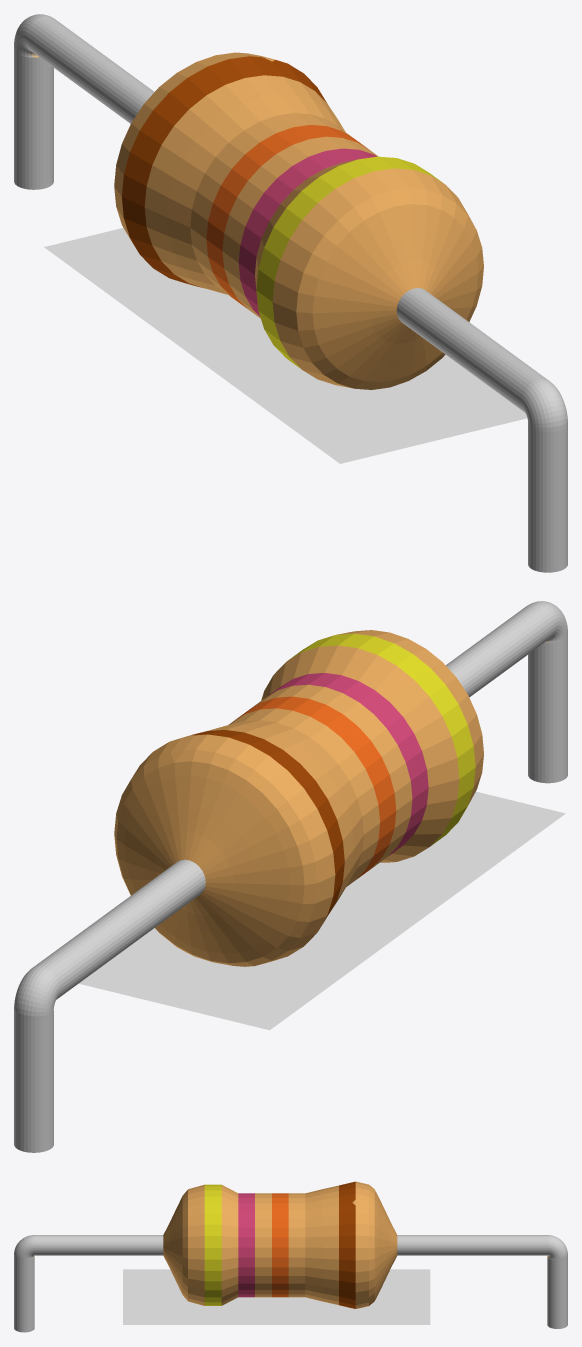
Rendered from R5_tan_7.gltf.
The picture shows the model from 3 angles, top to bottom: view 1: azimuth 30°, elevation 25°; view 2: azimuth 150°, elevation 25°; view 3: azimuth 270°, elevation 25°; orthographic projection. The views are drawn at different scales.
Visible parts, largest first — view 1: R5_tan_7, R5_tan_7_plane; view 2: R5_tan_7, R5_tan_7_plane; view 3: R5_tan_7, R5_tan_7_plane.
Boxes of the visible parts, x1=… form: R5_tan_7: x1=14, y1=14, x2=567, y2=572; R5_tan_7_plane: x1=44, y1=227, x2=527, y2=463; R5_tan_7: x1=14, y1=601, x2=567, y2=1152; R5_tan_7_plane: x1=79, y1=791, x2=565, y2=1030; R5_tan_7: x1=14, y1=1181, x2=567, y2=1332; R5_tan_7_plane: x1=123, y1=1269, x2=430, y2=1324.
Size of the model in its own units: 0.0161 by 0.0189 by 0.0676.
